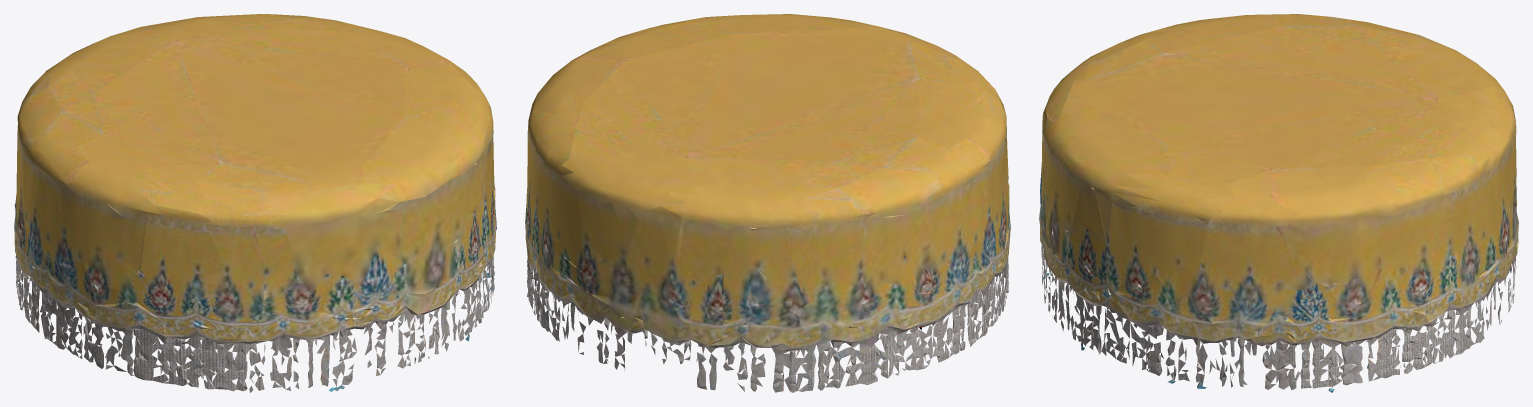
File: w3hcanopy.glb
The picture shows the model from 3 angles, left to right: view 1: azimuth 30°, elevation 25°; view 2: azimuth 150°, elevation 25°; view 3: azimuth 270°, elevation 25°; orthographic projection.
Visible parts, largest first — view 1: output_unwrapped; view 2: output_unwrapped; view 3: output_unwrapped.
Part boxes in pixels (x1,y1,x2,y2): output_unwrapped: (14,14,496,392); output_unwrapped: (525,14,1010,392); output_unwrapped: (1039,14,1518,392).
Size of the model in its own units: 1.35 by 0.6122 by 1.35.
1 material, 1 textured.
